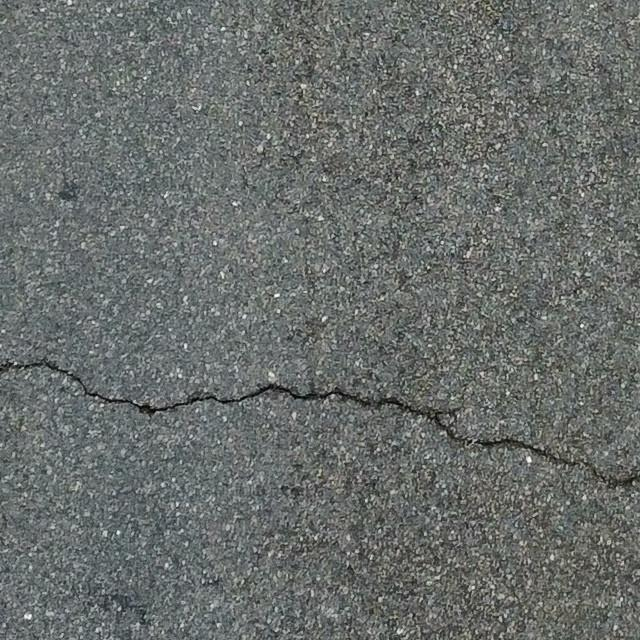TransverseCrack: (1, 357, 640, 490)
